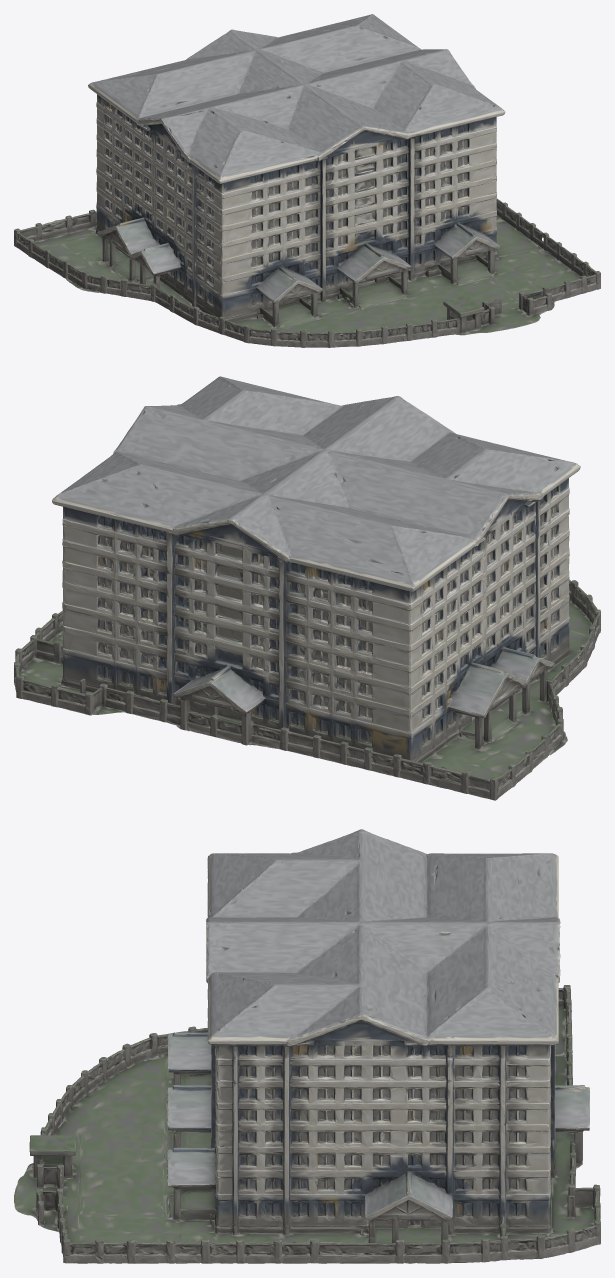
File: igmc.glb
The picture shows the model from 3 angles, top to bottom: view 1: azimuth 30°, elevation 25°; view 2: azimuth 150°, elevation 25°; view 3: azimuth 270°, elevation 25°; orthographic projection. The views are drawn at different scales.
Parts seen in each view (by area): view 1: IGMC; view 2: IGMC; view 3: IGMC.
Part boxes in pixels (<box>): IGMC: <box>14,14,600,347</box>; IGMC: <box>14,376,600,800</box>; IGMC: <box>14,829,600,1263</box>.
Size of the model in its own units: 86.91 by 35.14 by 83.81.
